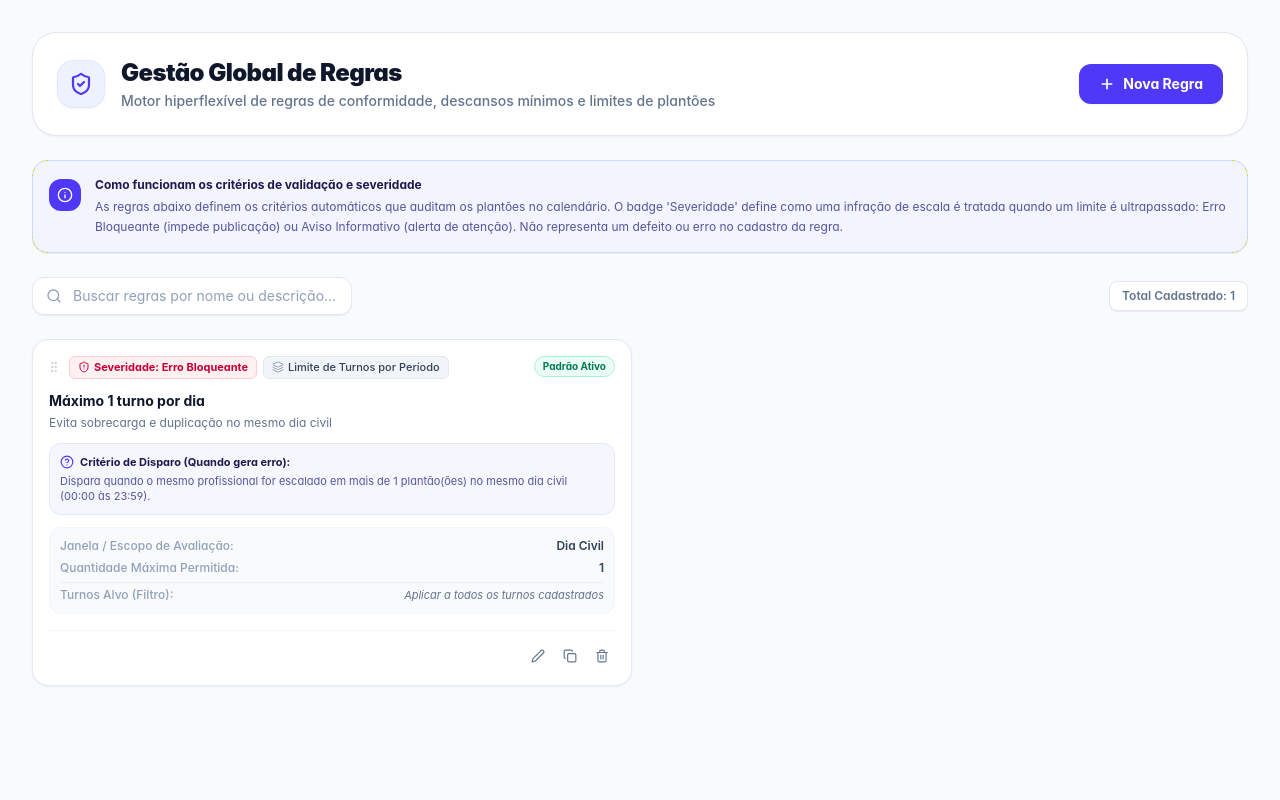
RulesManagementView › duplicates a rule
Click the button titled "duplicar" at (570, 656), box [557,643,583,669]
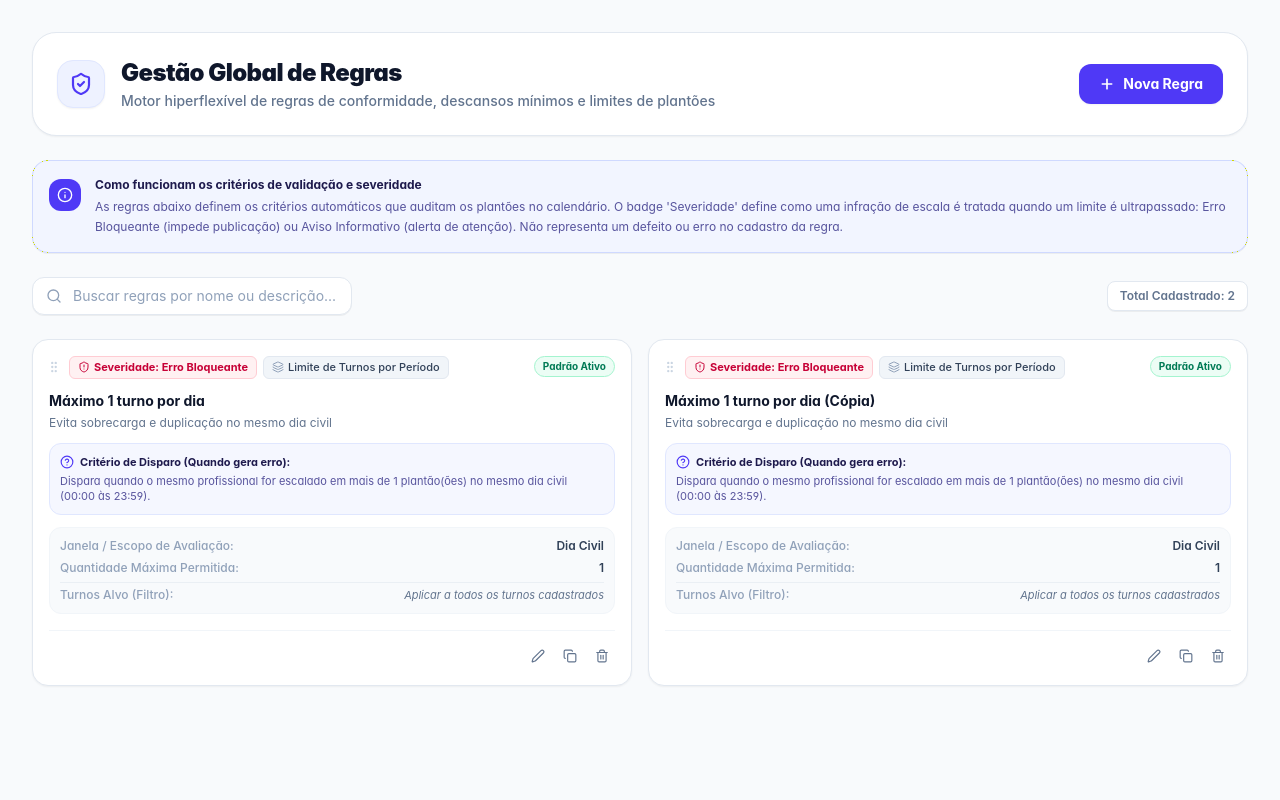
expect the heading "Máximo 1 turno por dia (Cópia)" is shown: met, box [665,392,875,408]
